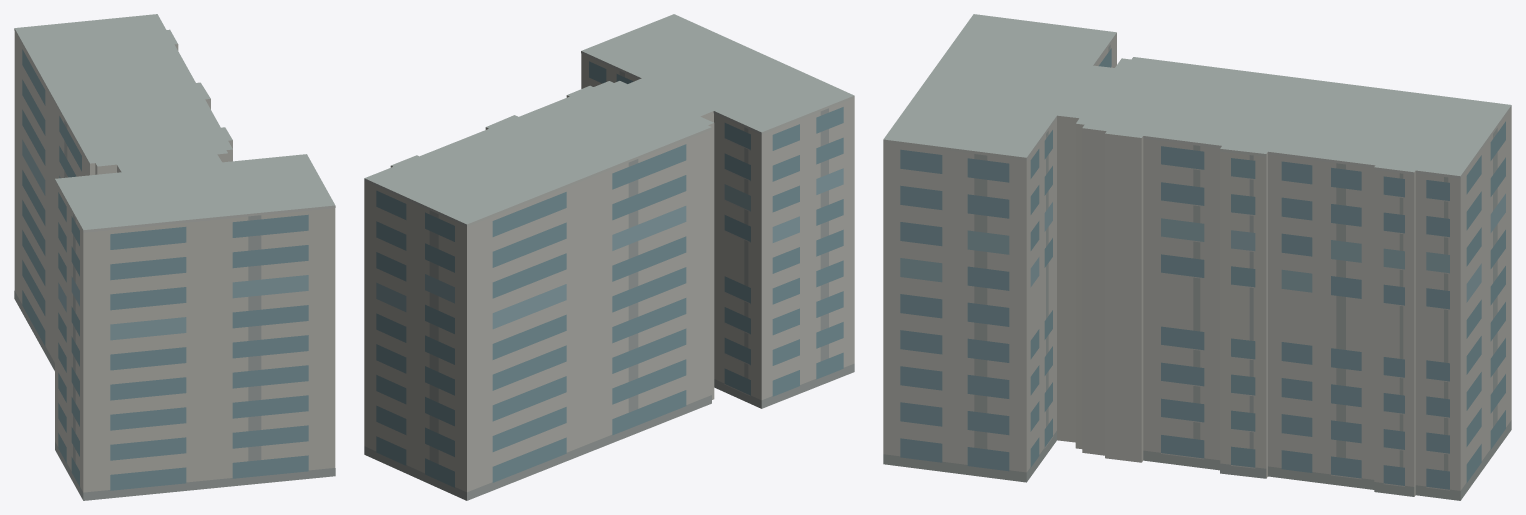
File: survey-upis-32876090.glb
The picture shows the model from 3 angles, left to right: view 1: azimuth 30°, elevation 25°; view 2: azimuth 150°, elevation 25°; view 3: azimuth 270°, elevation 25°; orthographic projection. The views are drawn at different scales.
Parts seen in each view (by area): view 1: survey-upis-32876090.tmp; view 2: survey-upis-32876090.tmp; view 3: survey-upis-32876090.tmp.
Boxes of the visible parts, bbox=[...] form: survey-upis-32876090.tmp: bbox=[14, 14, 335, 500]; survey-upis-32876090.tmp: bbox=[364, 14, 854, 500]; survey-upis-32876090.tmp: bbox=[883, 14, 1511, 500].
Bounding box in the file's own units: 29.41 × 27.45 × 48.15.
